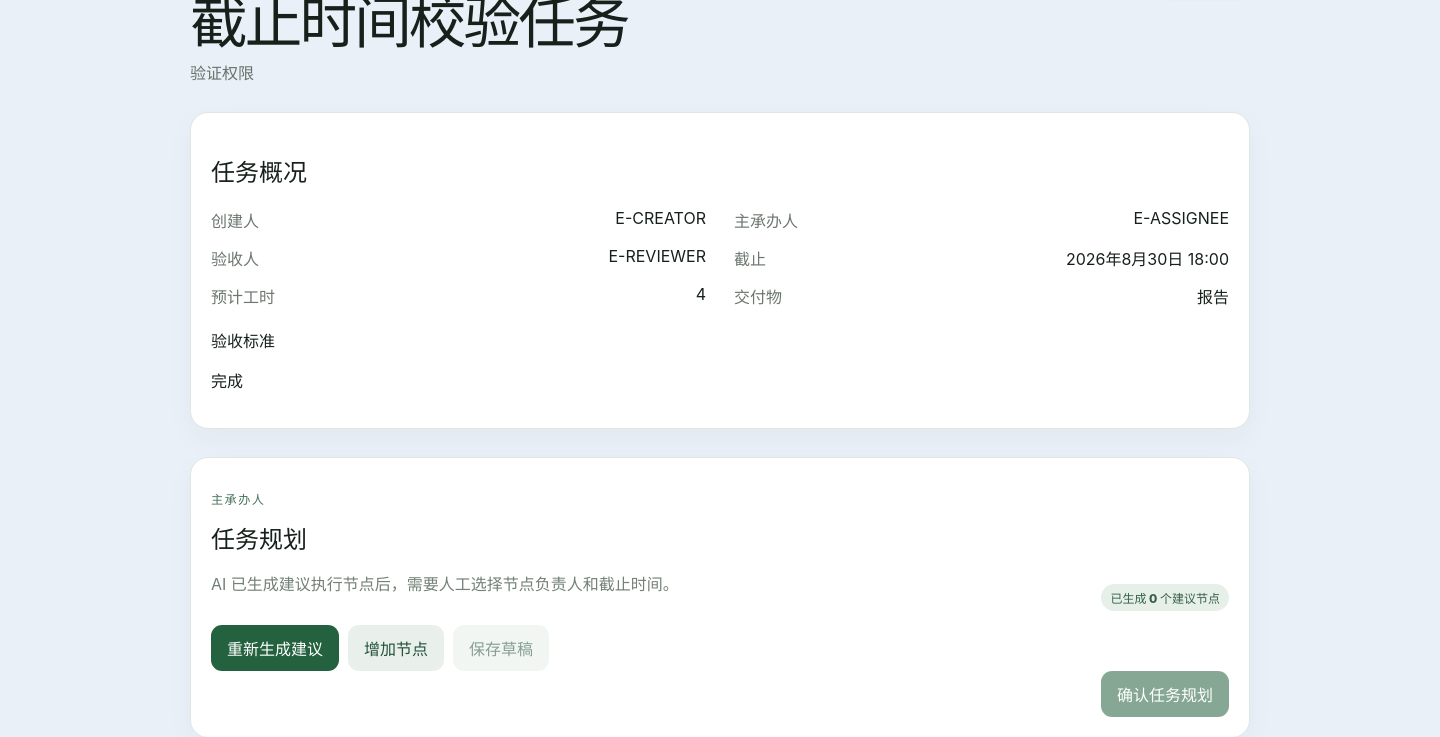
Test: TaskDetailPage › blocks plan confirmation when a node deadline exceeds the task deadline
Click the button "重新生成建议".
click(275, 648)  # box [211, 625, 339, 671]
(page scrolled)
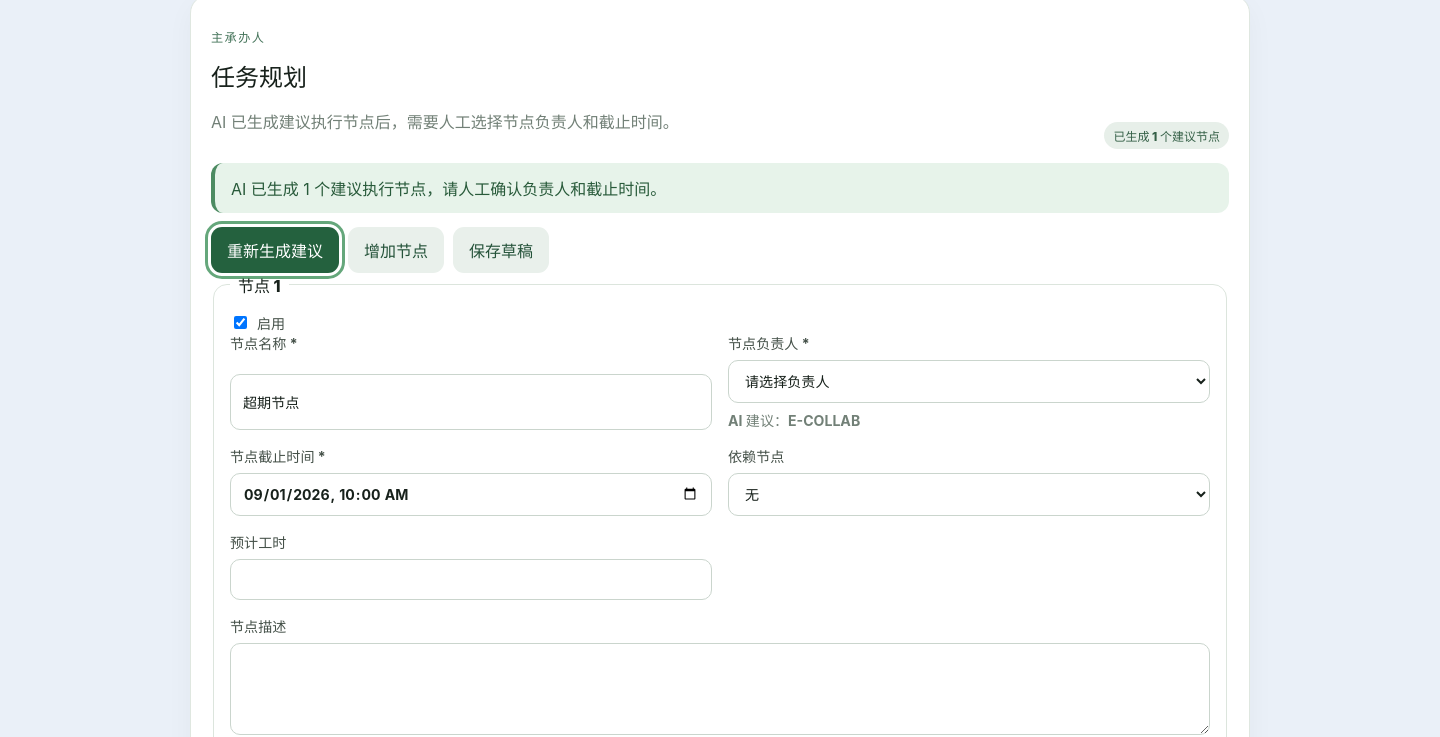
Select "协作成员 · E-COLLAB" in the dropdown labelled "节点负责人 * AI 建议：E-COLLAB" at [969, 381], box [728, 360, 1210, 403]
(page scrolled)
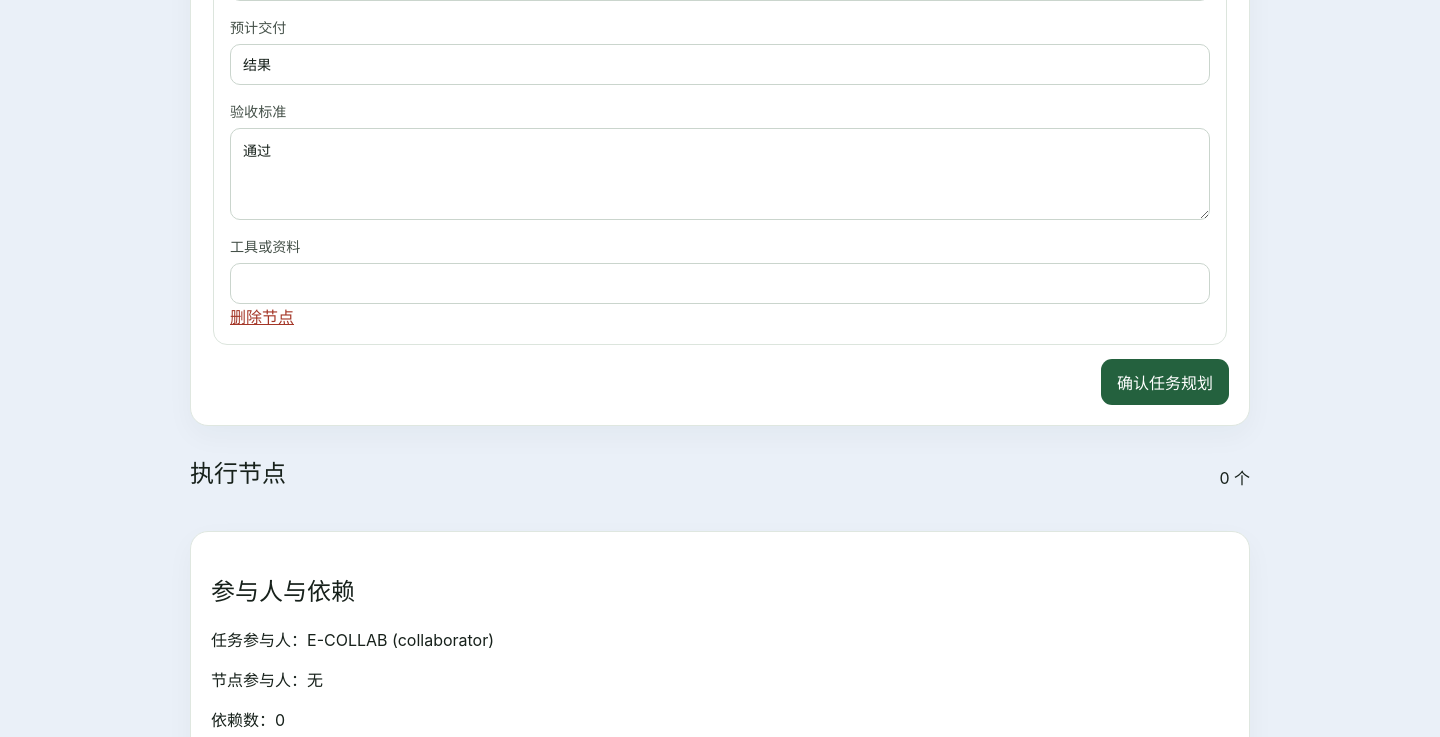
Click the button "确认任务规划".
click(1165, 382)  # box [1101, 359, 1229, 405]
(page scrolled)
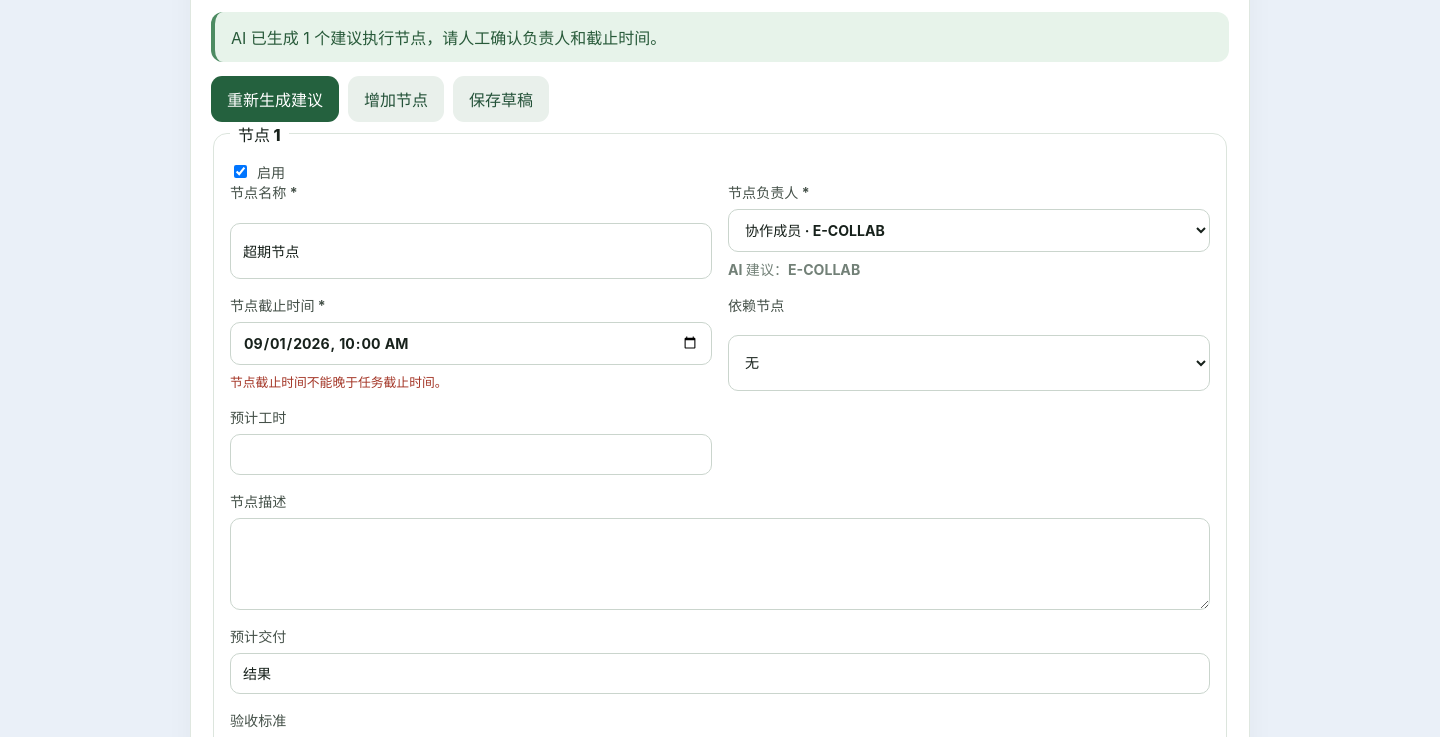
Result: the text "节点截止时间不能晚于任务截止时间。" is shown at [230, 375, 448, 390]
